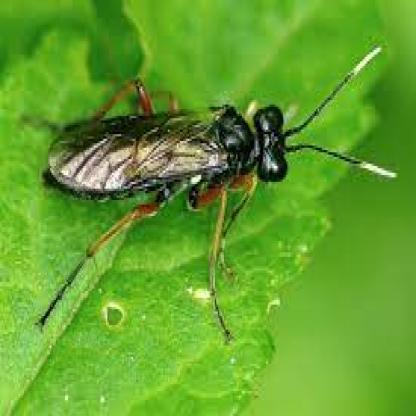sawfly: (33, 42, 394, 342)
